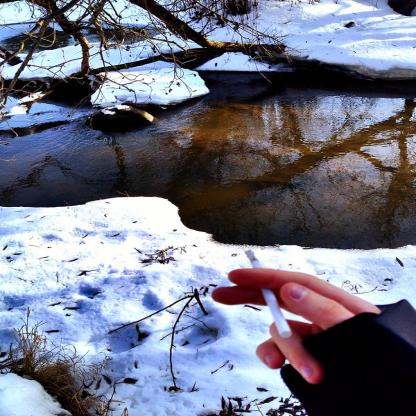smoking: (245, 250, 292, 338)
